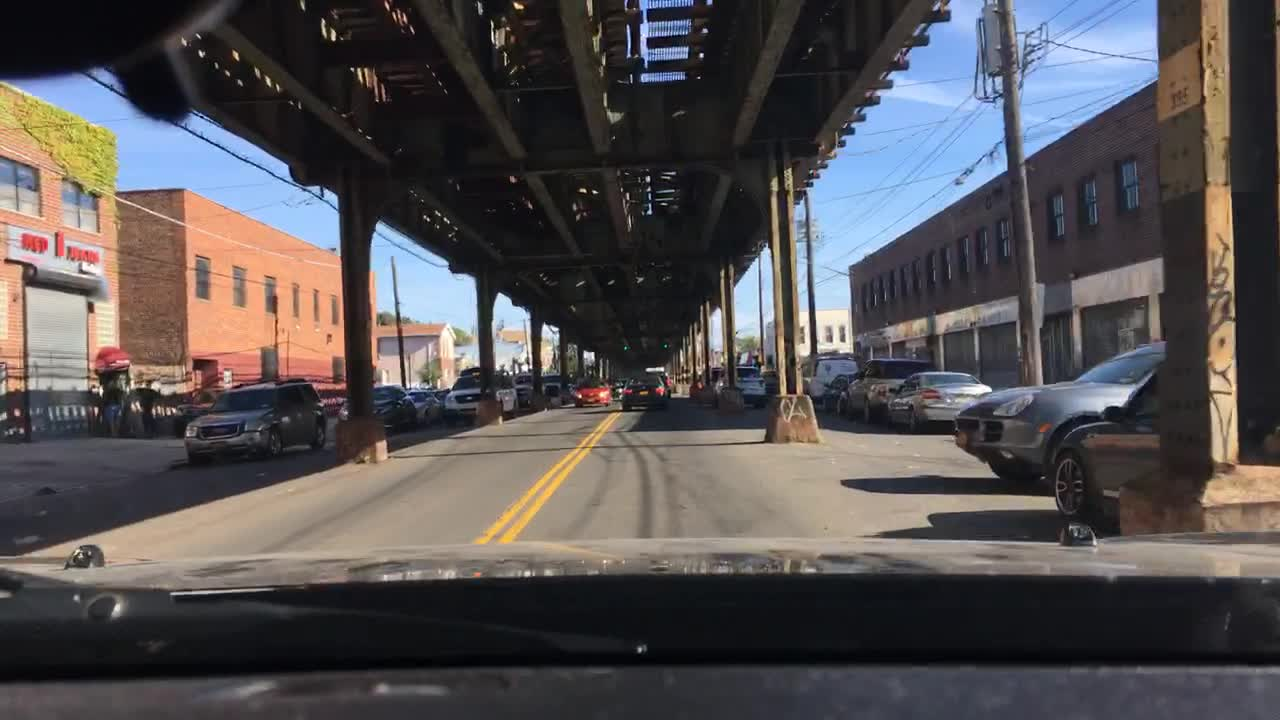car: (953, 337, 1169, 484), (1039, 359, 1169, 525), (184, 374, 327, 469), (881, 368, 992, 435), (840, 356, 935, 422), (445, 366, 519, 427), (334, 386, 420, 437), (174, 381, 243, 439), (705, 361, 766, 408), (805, 351, 857, 403), (619, 369, 670, 413), (405, 390, 447, 427), (567, 373, 611, 408), (816, 373, 849, 412), (690, 366, 719, 396), (646, 368, 673, 398), (516, 371, 536, 408), (543, 381, 565, 407), (606, 374, 624, 396), (433, 386, 449, 403)
person: (96, 374, 130, 440), (136, 374, 162, 435)
traffic light: (617, 339, 631, 354), (660, 334, 671, 351)
